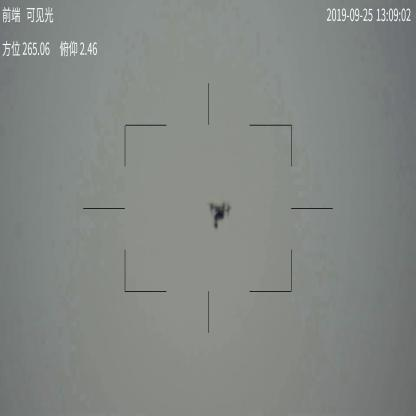uav: (206, 200, 232, 228)
